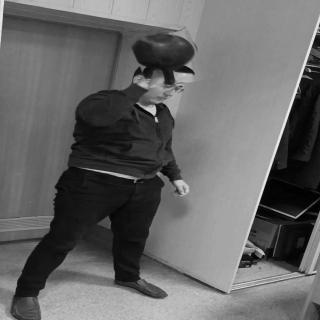kettlebell: (133, 33, 207, 87)
